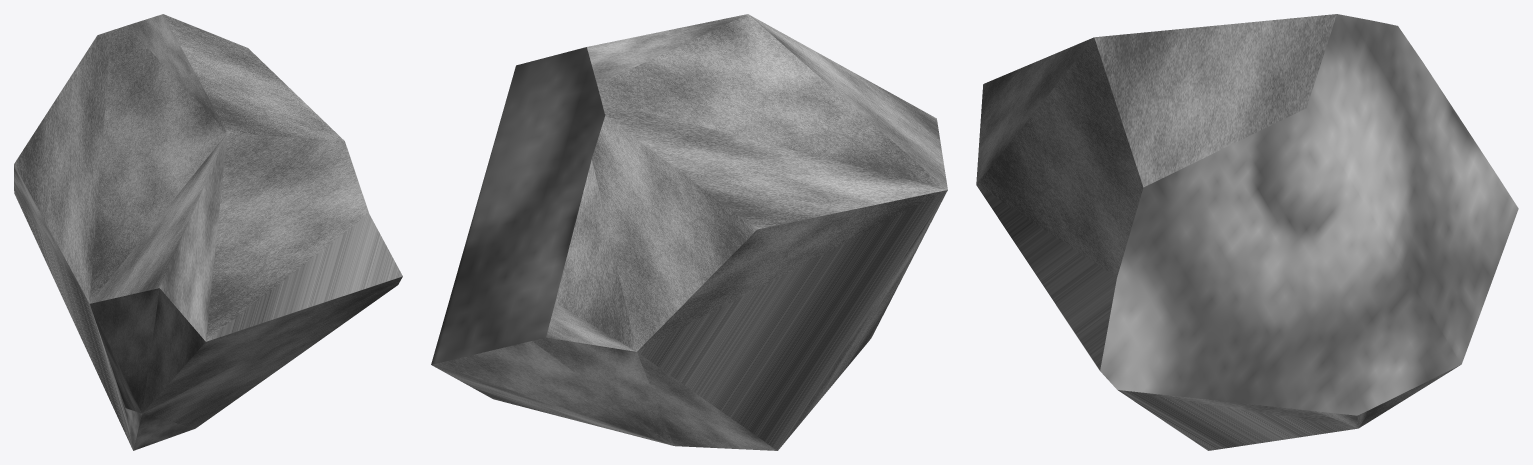
File: body_cell_058.fbx
The picture shows the model from 3 angles, left to right: view 1: azimuth 30°, elevation 25°; view 2: azimuth 150°, elevation 25°; view 3: azimuth 270°, elevation 25°; orthographic projection. The views are drawn at different scales.
Visible parts, largest first — view 1: body_cell.058; view 2: body_cell.058; view 3: body_cell.058.
Boxes of the visible parts, box(x1,y1,x2,y2) form: body_cell.058: box(14, 14, 402, 450); body_cell.058: box(431, 14, 947, 450); body_cell.058: box(976, 14, 1518, 450).
Bounding box in the file's own units: 41.51 × 44.09 × 48.25.
